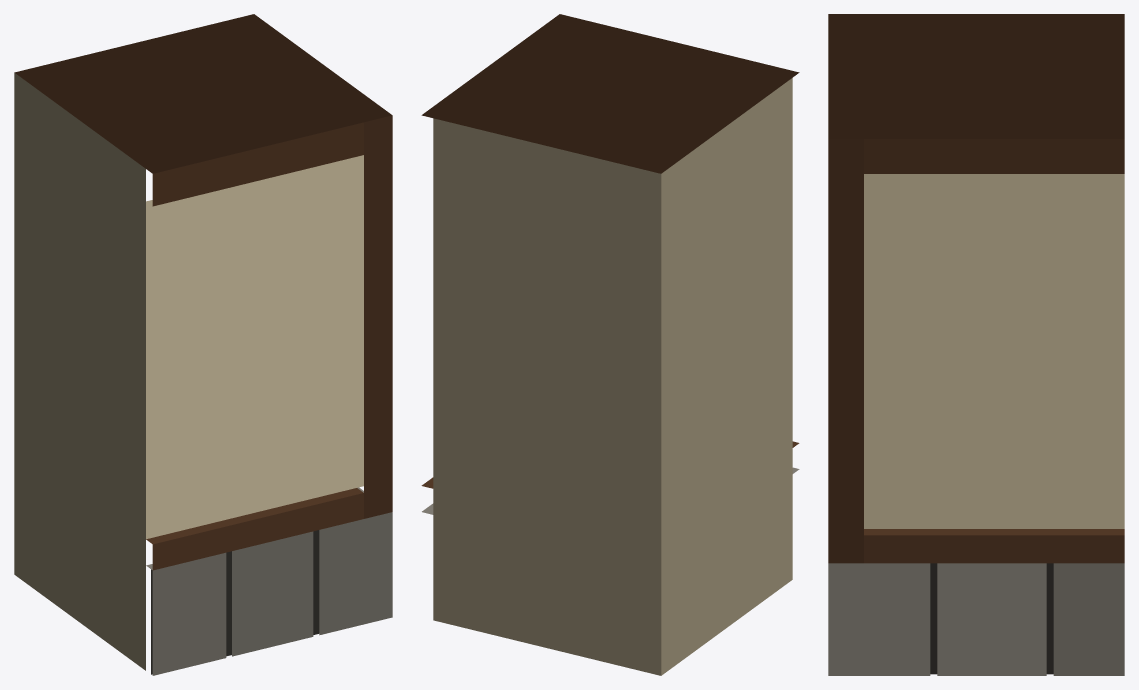
File: tile_house_wall_5.glb
The picture shows the model from 3 angles, left to right: view 1: azimuth 30°, elevation 25°; view 2: azimuth 150°, elevation 25°; view 3: azimuth 270°, elevation 25°; orthographic projection. The views are drawn at different scales.
Parts seen in each view (by area): view 1: tile_house_wall_5; view 2: tile_house_wall_5; view 3: tile_house_wall_5.
Boxes of the visible parts, x1,y1,x2,y2 form: tile_house_wall_5: (14,14,392,675); tile_house_wall_5: (421,14,799,675); tile_house_wall_5: (828,14,1124,675).
Size of the model in its own units: 1 by 2 by 1.
